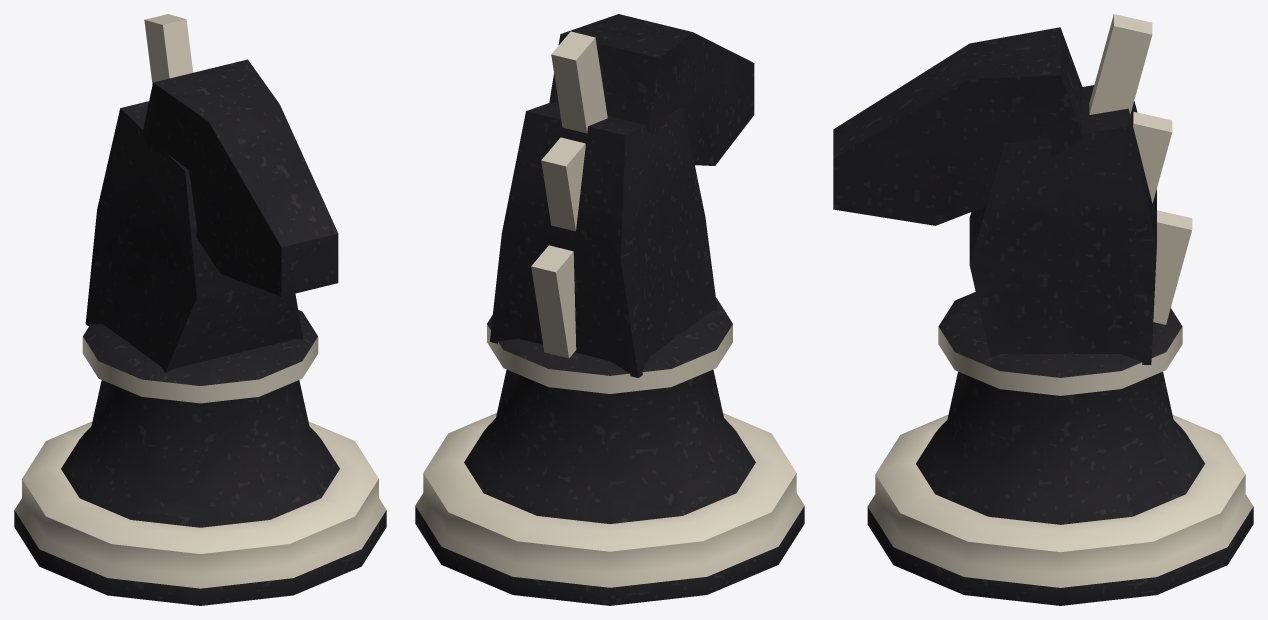
The model's file is knight_dark_lod1.glb.
3 renders of one model, left to right at view 1: azimuth 30°, elevation 25°; view 2: azimuth 150°, elevation 25°; view 3: azimuth 270°, elevation 25°, orthographic. The views are drawn at different scales.
Parts seen in each view (by area): view 1: Piece_Knight_Dark_Mesh; view 2: Piece_Knight_Dark_Mesh; view 3: Piece_Knight_Dark_Mesh.
Boxes of the visible parts, x1,y1,x2,y2 form: Piece_Knight_Dark_Mesh: (14, 14, 386, 605); Piece_Knight_Dark_Mesh: (415, 14, 804, 605); Piece_Knight_Dark_Mesh: (833, 14, 1253, 605).
Size of the model in its own units: 0.68 by 0.9806 by 0.74.
Materials: 2 (1 with a texture image).
